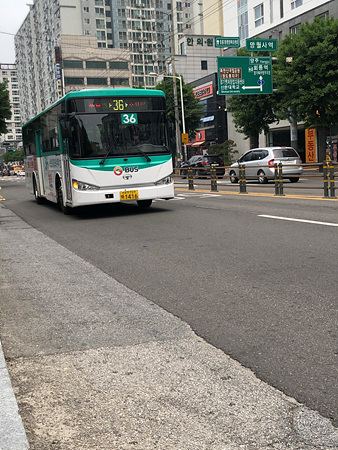bnum: (120, 112, 137, 124)
